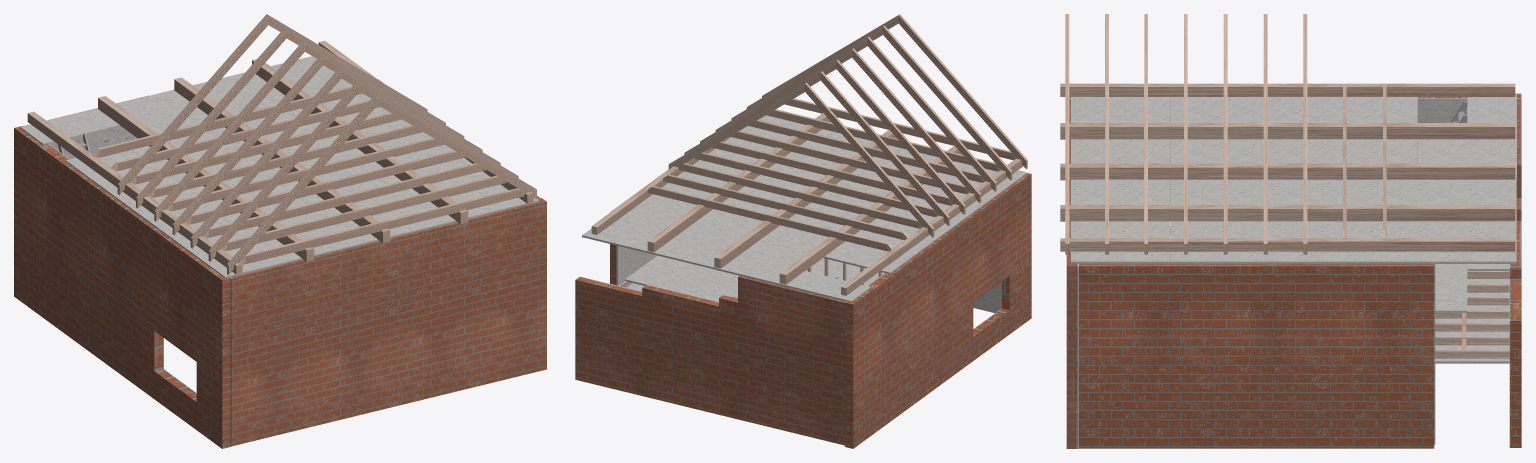
File: house.fbx
The picture shows the model from 3 angles, left to right: view 1: azimuth 30°, elevation 25°; view 2: azimuth 150°, elevation 25°; view 3: azimuth 270°, elevation 25°; orthographic projection. The views are drawn at different scales.
Parts seen in each view (by area): view 1: pCube40, other_wall, pCube179, pCube182, pCube174, pCube183, pCube180, pCube86, pCube89, pCube88, pCube87, pCube85 (+36 smaller); view 2: wall, other_wall, pCube88, pCube96, pCube95, pCube125 (×2), pCube97, pCube174, pCube176, pCube86, pCube179, pCube89 (+37 smaller); view 3: pCube40 (×2), pCube185, pCube184, pCube186, pCube79, pCube174, wall, pCube124 (×2), pCube121 (×2), pCube123 (×2), pCube128, pCube125 (+41 smaller).
Boxes of the visible parts, x1,y1,x2,y2 form: pCube40: (230,198,546,446); other_wall: (14,126,230,448); pCube179: (227,94,536,274); pCube182: (240,188,525,264); pCube174: (27,111,242,274); pCube183: (221,175,506,251); pCube180: (208,80,518,261); pCube86: (172,54,482,235); pCube89: (154,41,464,221); pCube88: (117,14,427,194); pCube87: (136,27,445,208); pCube85: (190,67,500,248); wall: (575,275,846,445); other_wall: (845,172,1031,448); pCube88: (668,82,934,237); pCube96: (663,174,908,240); pCube95: (647,186,893,251); pCube125 (×2): (625,195,707,294); pCube97: (678,163,922,228); pCube174: (841,158,1023,295); pCube176: (694,152,938,217); pCube86: (715,48,981,203); pCube179: (762,14,1027,169); pCube89: (700,60,965,214); pCube40 (×2): (1066,99,1434,448); pCube185: (1060,163,1515,180); pCube184: (1060,205,1515,221); pCube186: (1060,123,1515,139); pCube79: (1060,238,1515,251); pCube174: (1060,83,1515,96); wall: (1510,98,1521,447); pCube124 (×2): (1467,219,1516,363); pCube121 (×2): (1417,221,1466,363); pCube123 (×2): (1467,178,1516,319); pCube128: (1318,221,1368,263); pCube125: (1368,221,1417,263).
Size of the model in its own units: 0.2062 by 0.1925 by 0.2328.
Materials: 5 (4 with a texture image).
